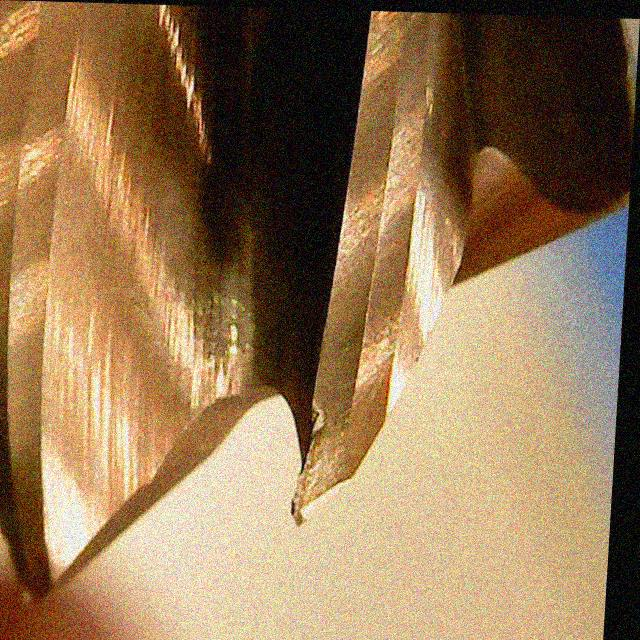Tool-wear-class-1: (282, 218, 412, 528)
